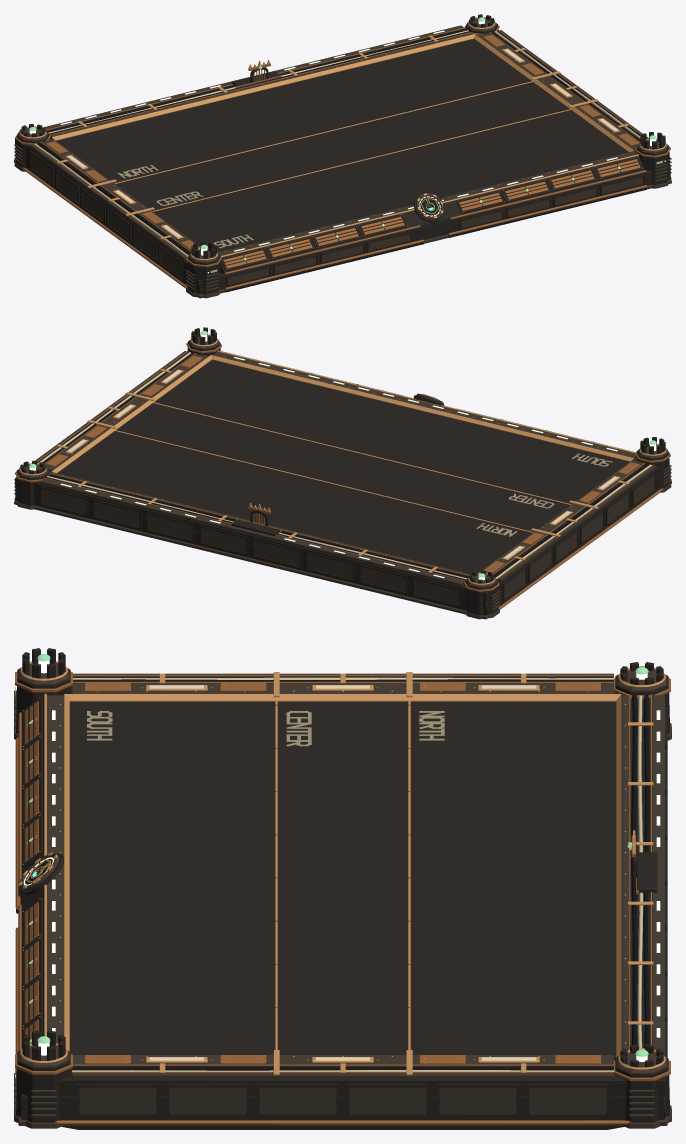
File: regent.glb
3 views of the same model, one above another, from view 1: azimuth 30°, elevation 25°; view 2: azimuth 150°, elevation 25°; view 3: azimuth 270°, elevation 25° (orthographic). The views are drawn at different scales.
Parts seen in each view (by area): view 1: body_board_steel, body_board_panel, body_board_trim, body_board_trim_bright, body_board_rubber, body_board_ivory, body_accent_glow; view 2: body_board_steel, body_board_panel, body_board_trim_bright, body_board_trim, body_board_rubber, body_board_ivory, body_accent_glow; view 3: body_board_steel, body_board_panel, body_board_trim, body_board_trim_bright, body_board_rubber, body_board_ivory, body_accent_glow.
Boxes of the visible parts, x1=… form: body_board_steel: x1=15, y1=14, x2=670, y2=294; body_board_panel: x1=14, y1=18, x2=671, y2=298; body_board_trim: x1=15, y1=24, x2=670, y2=289; body_board_trim_bright: x1=19, y1=17, x2=666, y2=269; body_board_rubber: x1=37, y1=29, x2=646, y2=292; body_board_ivory: x1=34, y1=30, x2=662, y2=272; body_accent_glow: x1=60, y1=30, x2=665, y2=273; body_board_steel: x1=15, y1=327, x2=670, y2=615; body_board_panel: x1=14, y1=335, x2=671, y2=619; body_board_trim_bright: x1=19, y1=334, x2=666, y2=584; body_board_trim: x1=15, y1=340, x2=670, y2=609; body_board_rubber: x1=42, y1=352, x2=648, y2=580; body_board_ivory: x1=37, y1=352, x2=651, y2=579; body_accent_glow: x1=60, y1=357, x2=617, y2=578; body_board_steel: x1=16, y1=648, x2=669, y2=1129; body_board_panel: x1=14, y1=663, x2=671, y2=1128; body_board_trim: x1=15, y1=672, x2=670, y2=1124; body_board_trim_bright: x1=18, y1=661, x2=665, y2=1075; body_board_rubber: x1=16, y1=679, x2=649, y2=1070; body_board_ivory: x1=15, y1=677, x2=643, y2=1074; body_accent_glow: x1=15, y1=685, x2=660, y2=1077.
Size of the model in its own units: 18.87 by 2.54 by 12.87.
